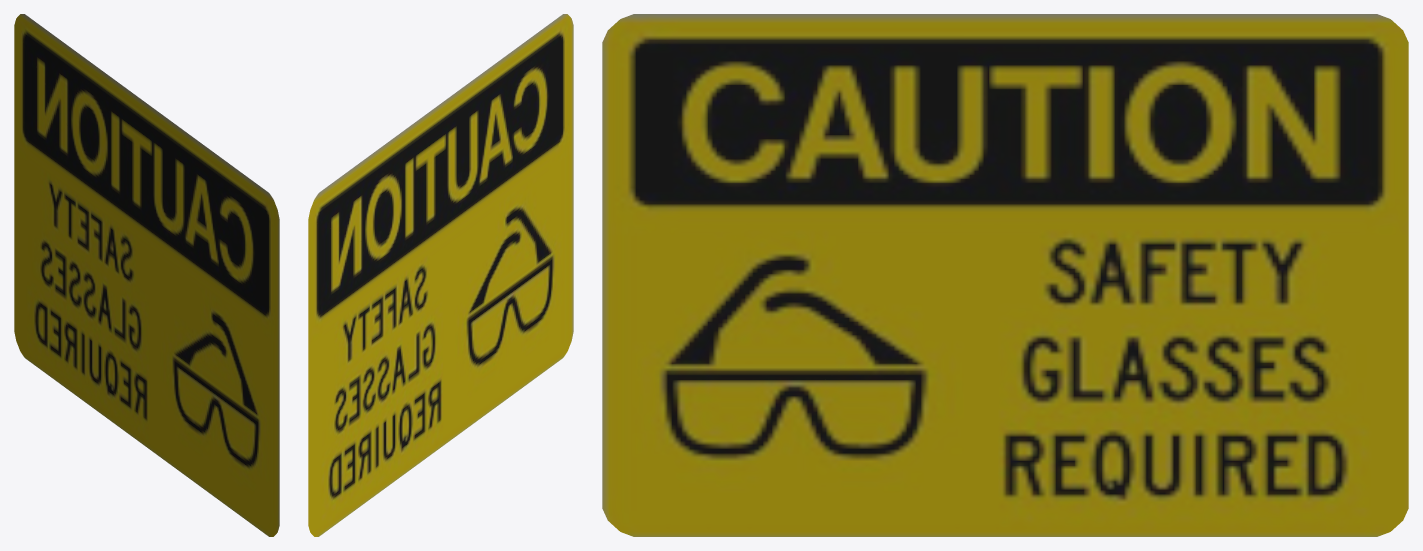
File: SM_SignB_03.FBX
3 renders of one model, left to right at view 1: azimuth 30°, elevation 25°; view 2: azimuth 150°, elevation 25°; view 3: azimuth 270°, elevation 25°, orthographic. The views are drawn at different scales.
Parts seen in each view (by area): view 1: SM_SignB_03; view 2: SM_SignB_03; view 3: SM_SignB_03.
Boxes of the visible parts, x1,y1,x2,y2 form: SM_SignB_03: [14, 14, 279, 536]; SM_SignB_03: [308, 14, 573, 536]; SM_SignB_03: [602, 14, 1408, 536].
Size of the model in its own units: 3.48e-06 by 29.21 by 20.9.
